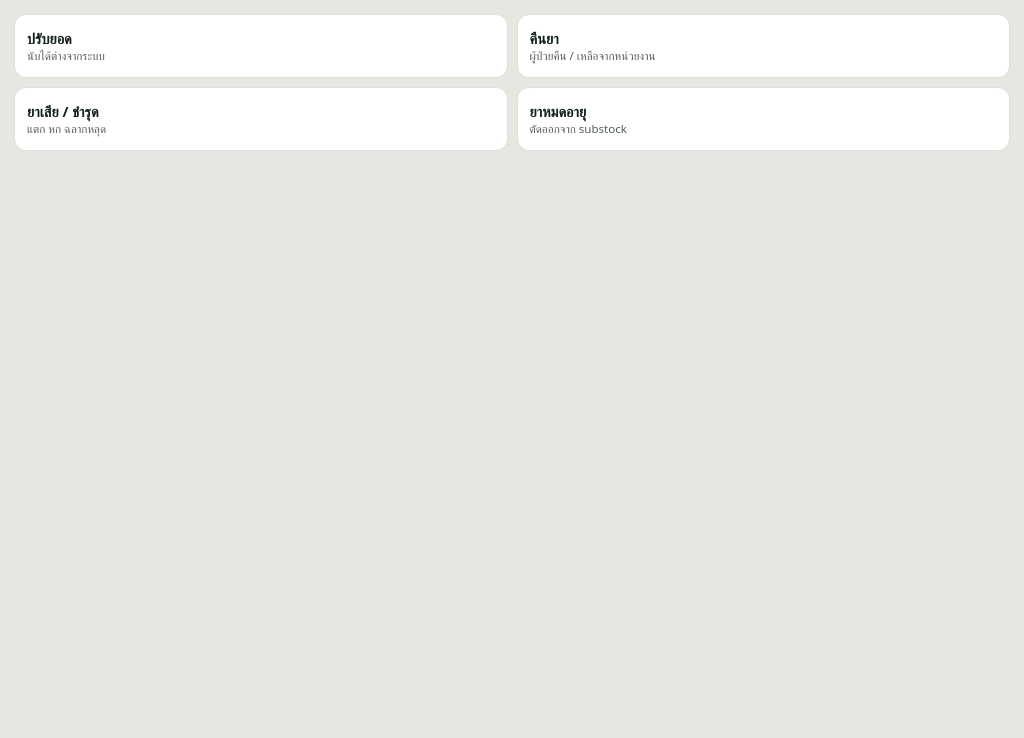
Scenario: AdjustScreen — คืนยา reason chips regression › picking a preset chip after "อื่นๆ" switches back off the free-text input
Click the button "คืนยา ผู้ป่วยคืน / เหลือจากหน่วยงาน" at (592, 56), box [516, 14, 1010, 78]
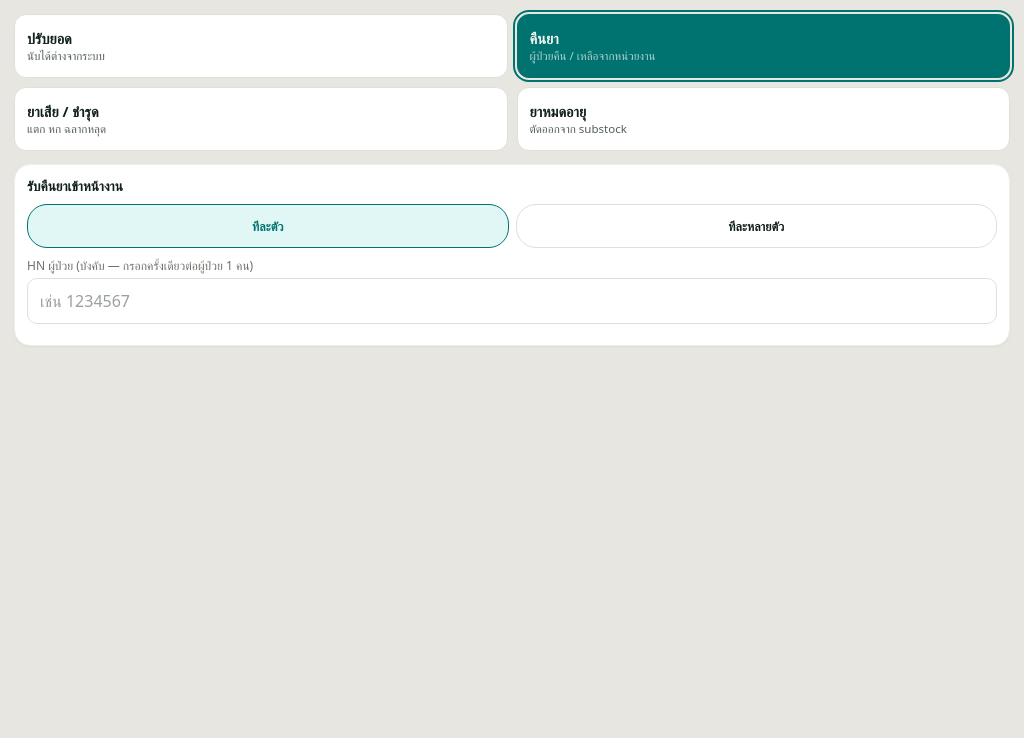
Type "0010643" into the field with placeholder "เช่น 1234567" at (512, 301), box [27, 278, 997, 324]
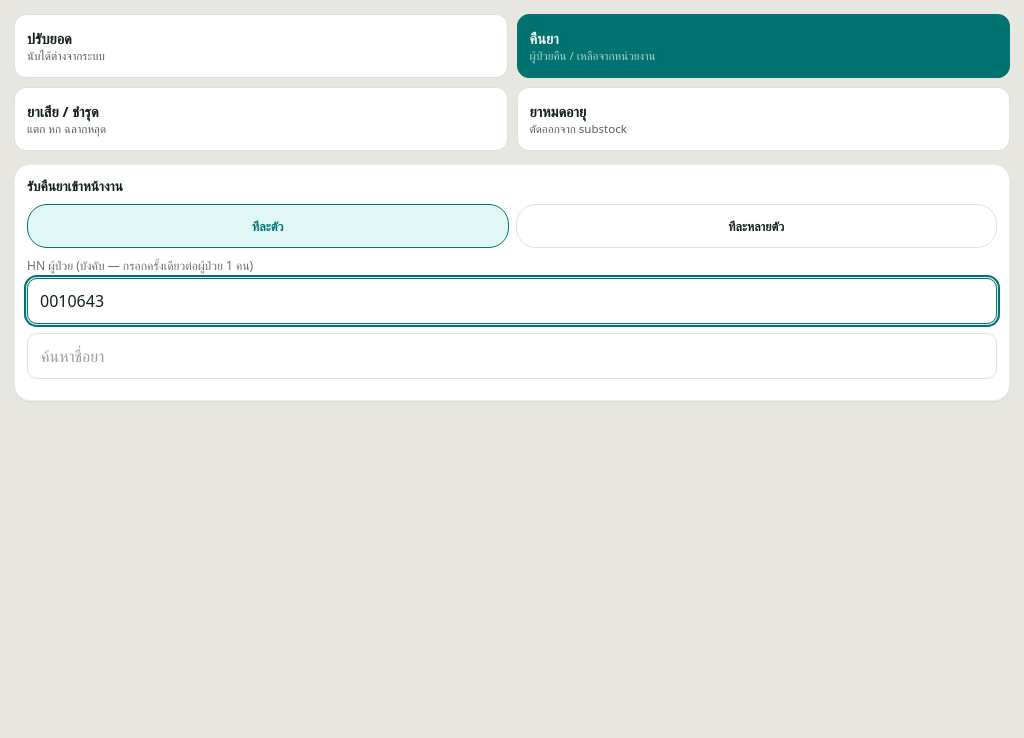
Type "Paracetamol" into the field with placeholder "ค้นหาชื่อยา" at (512, 356), box [27, 333, 997, 379]
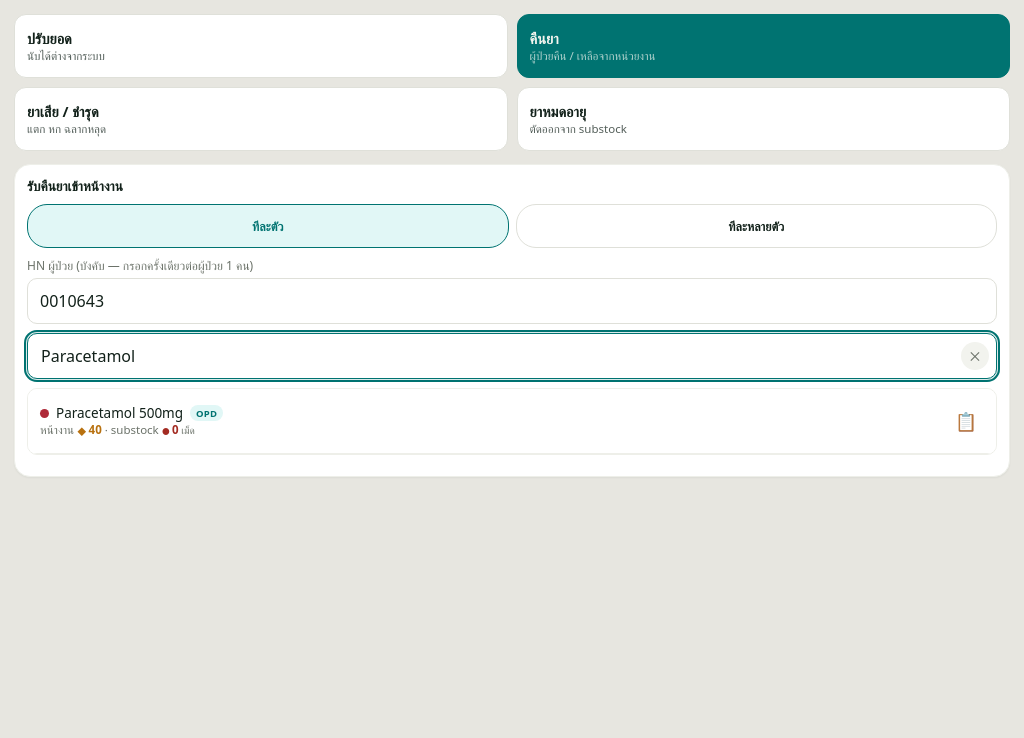
Click the text "Paracetamol 500mg" at (132, 413), box [40, 404, 223, 422]
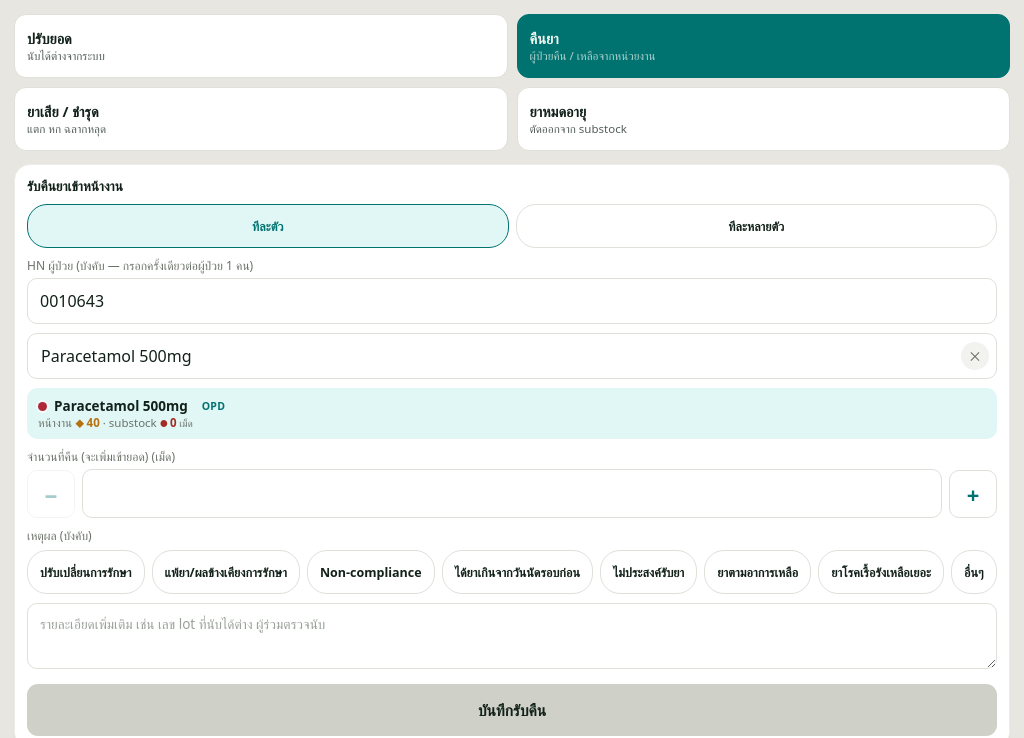
Click the button "อื่นๆ" at (974, 572), box [951, 550, 997, 594]
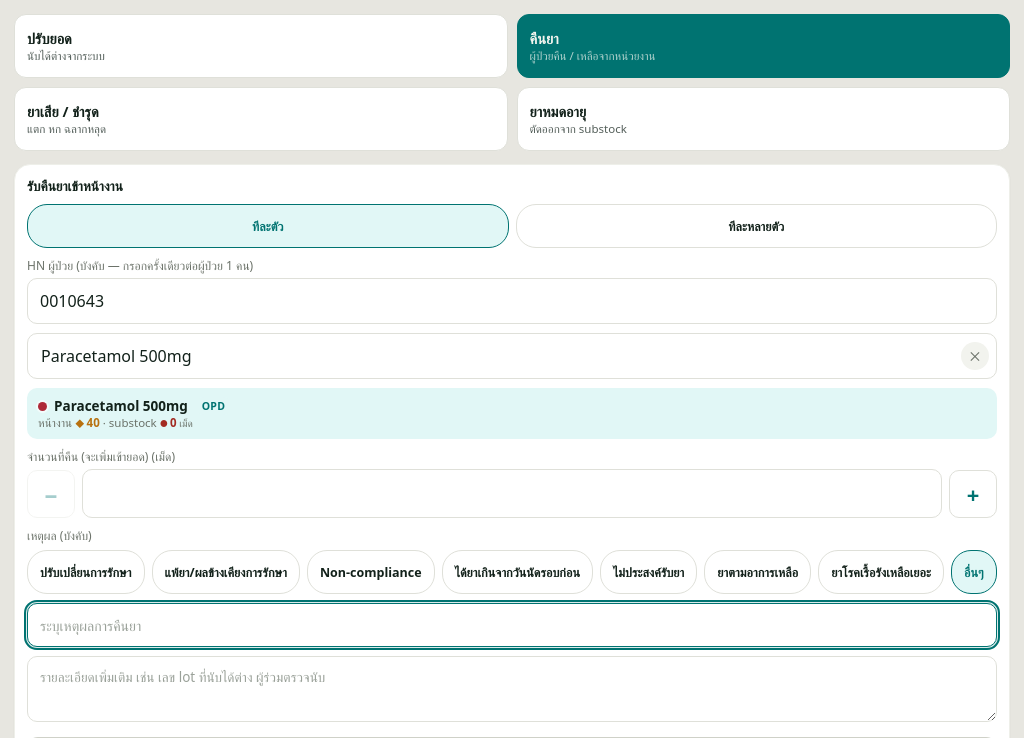
Result: the field with placeholder "ระบุเหตุผลการคืนยา" is shown at [27, 603, 997, 647]
Click the button "ไม่ประสงค์รับยา" at (649, 572), box [600, 550, 697, 594]
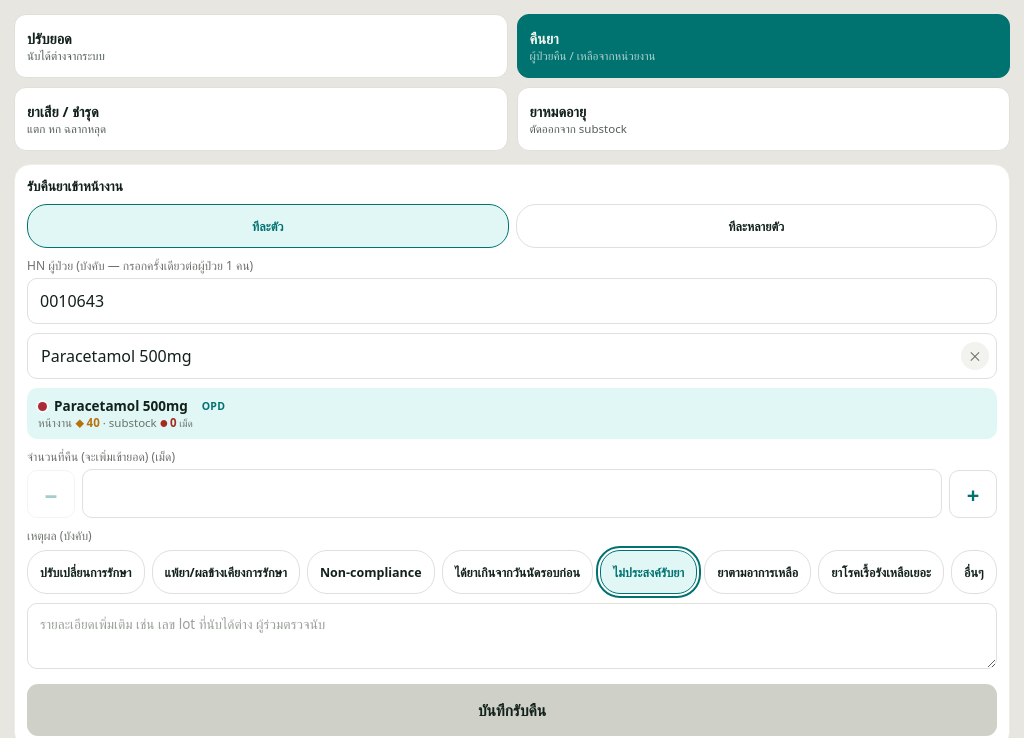
Result: the field with placeholder "ระบุเหตุผลการคืนยา" is gone
